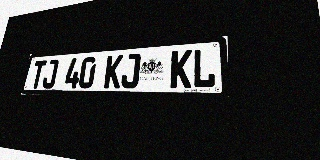0: (78, 56, 97, 88)
4: (64, 58, 82, 88)
J: (120, 53, 141, 88), (41, 59, 59, 88)
K: (170, 49, 192, 88), (103, 55, 123, 88)
L: (192, 48, 215, 88)
T: (29, 60, 47, 89)
